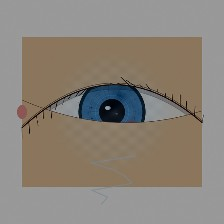foreign_body_visible: (119, 118, 143, 137)
